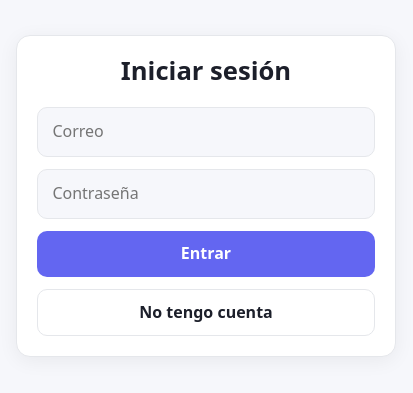
Test: Login (integración) › envía las credenciales a Supabase y muestra el error si fallan
In the field with placeholder "Correo": {"x": 206, "y": 132} [37, 107, 375, 157], type "ana@gmail.com"
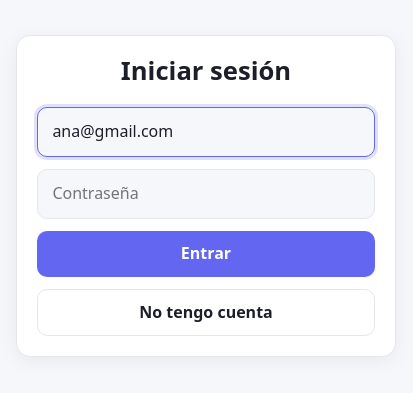
In the password field with placeholder "Contraseña": {"x": 206, "y": 194} [37, 169, 375, 219], type "secreto123"
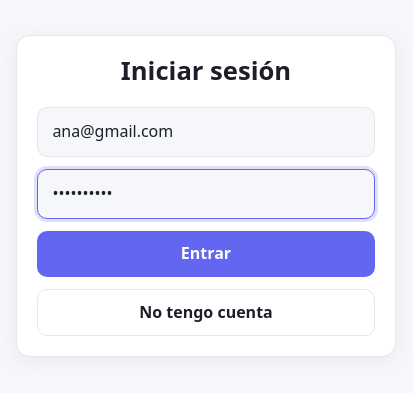
Click the button "Entrar": {"x": 206, "y": 254} [37, 230, 375, 277]
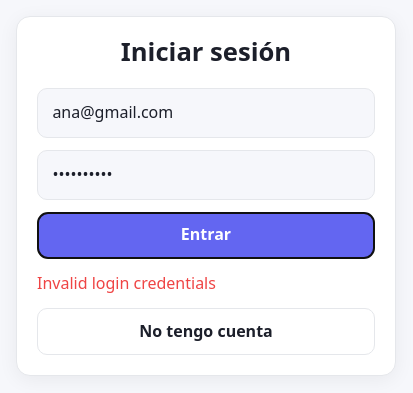
expect the text "Invalid login credentials" is shown: met, box [37, 272, 216, 294]
